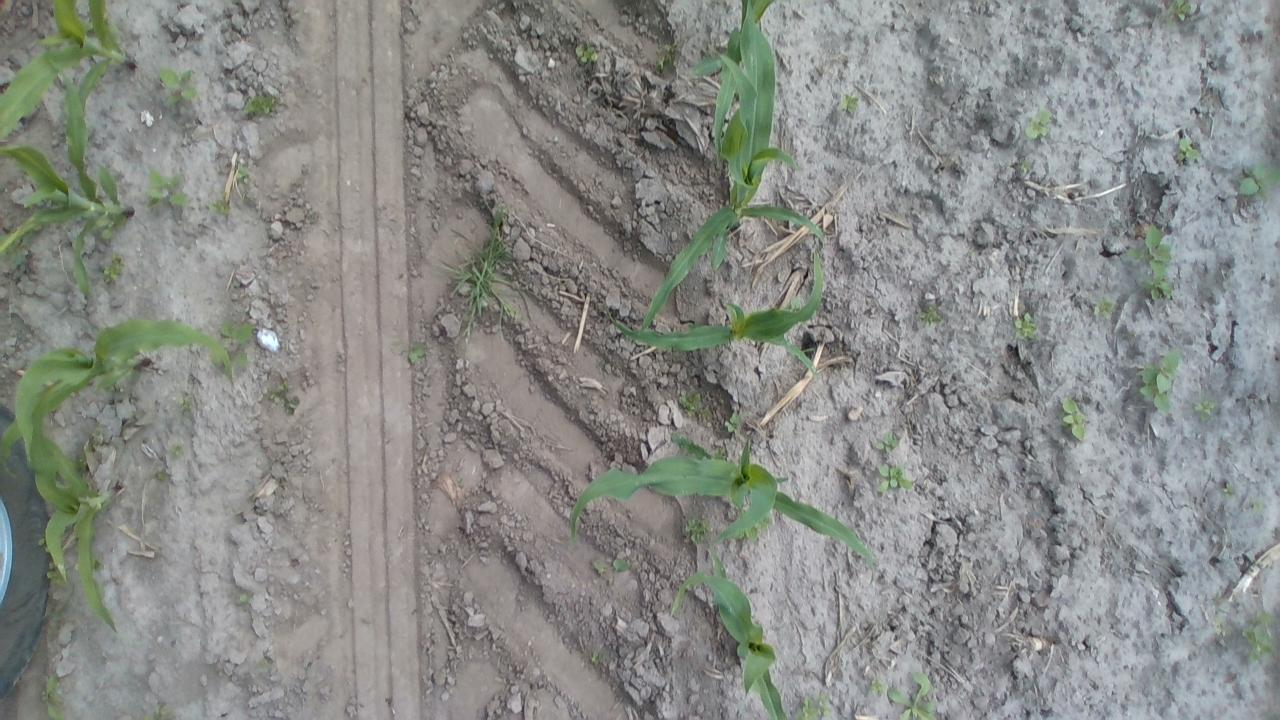Maize: (630, 0, 826, 338), (570, 435, 877, 582), (0, 320, 235, 481), (0, 55, 134, 302), (604, 248, 829, 376), (668, 545, 792, 720), (0, 0, 137, 138), (29, 428, 120, 633), (692, 0, 777, 162)
Weeds: (442, 206, 518, 340), (1138, 347, 1180, 416), (887, 671, 937, 720), (1125, 226, 1171, 276), (212, 322, 256, 369), (145, 168, 189, 209), (158, 68, 200, 107), (1239, 162, 1280, 198), (1060, 397, 1088, 441), (792, 690, 833, 720), (1242, 628, 1276, 664), (40, 673, 64, 720), (876, 462, 912, 492), (678, 392, 713, 419), (683, 516, 713, 544), (737, 516, 772, 540), (1025, 108, 1051, 138), (94, 216, 126, 240), (1142, 276, 1174, 300), (244, 94, 277, 117), (1162, 0, 1191, 26), (1014, 311, 1039, 341), (103, 254, 127, 283), (272, 385, 296, 411), (1176, 138, 1200, 162), (48, 562, 68, 590), (209, 190, 229, 218), (919, 302, 942, 326), (103, 11, 122, 40), (1194, 395, 1216, 420), (144, 703, 174, 720), (837, 92, 859, 114), (1250, 610, 1276, 628), (876, 432, 899, 452), (574, 44, 598, 62), (233, 161, 250, 185), (656, 44, 672, 68), (1092, 298, 1114, 315), (406, 342, 426, 360), (724, 413, 741, 434), (81, 8, 95, 32), (1212, 618, 1228, 636), (612, 558, 632, 572), (38, 533, 52, 553), (72, 453, 88, 470), (787, 296, 802, 312), (1222, 482, 1236, 499), (177, 396, 193, 410), (870, 679, 884, 694), (592, 559, 605, 574), (170, 443, 182, 455), (1020, 160, 1032, 172), (157, 472, 170, 483), (1253, 500, 1264, 513), (589, 651, 602, 662), (240, 592, 250, 604), (714, 446, 724, 456)
